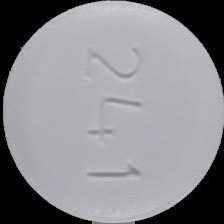70786-0241: (0, 0, 224, 224)
